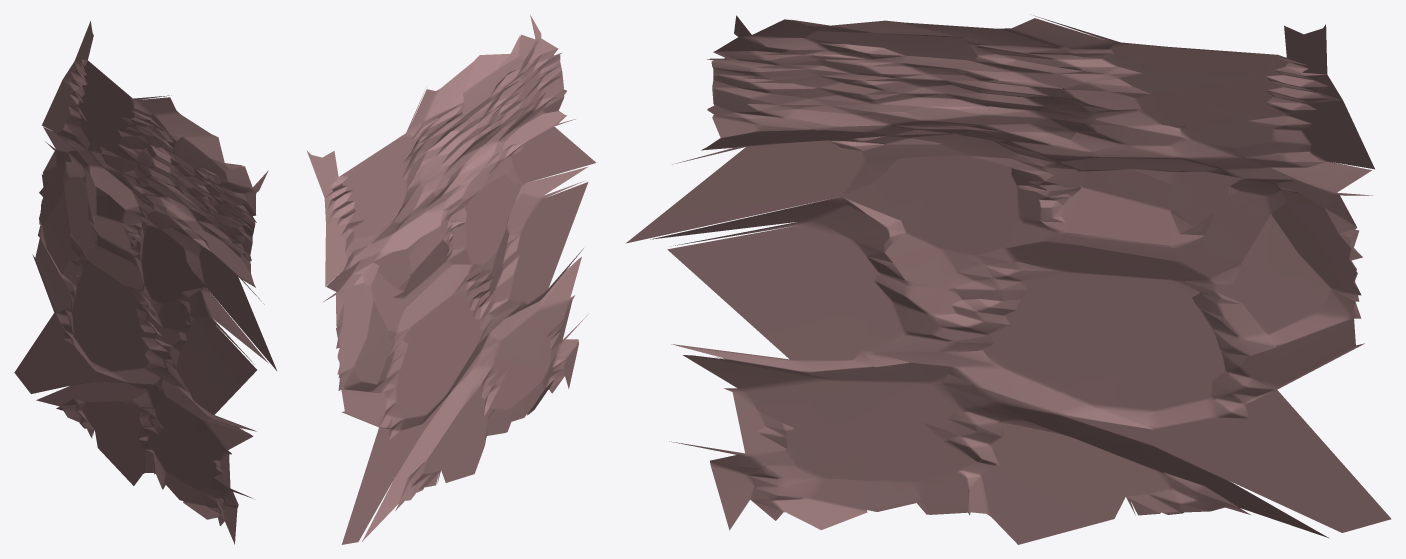
File: plateau.fbx_Rock_Plateau_031LODs.fbx
3 views of the same model, side by side, from view 1: azimuth 30°, elevation 25°; view 2: azimuth 150°, elevation 25°; view 3: azimuth 270°, elevation 25° (orthographic). The views are drawn at different scales.
Visible parts, largest first — view 1: Rock Plateau.031_LOD0; view 2: Rock Plateau.031_LOD0; view 3: Rock Plateau.031_LOD0.
Boxes of the visible parts, x1,y1,x2,y2 form: Rock Plateau.031_LOD0: (14, 21, 276, 544); Rock Plateau.031_LOD0: (306, 14, 595, 544); Rock Plateau.031_LOD0: (625, 15, 1391, 544).
Size of what is drawn, in the model's own units: 514 by 2806 by 3438.
